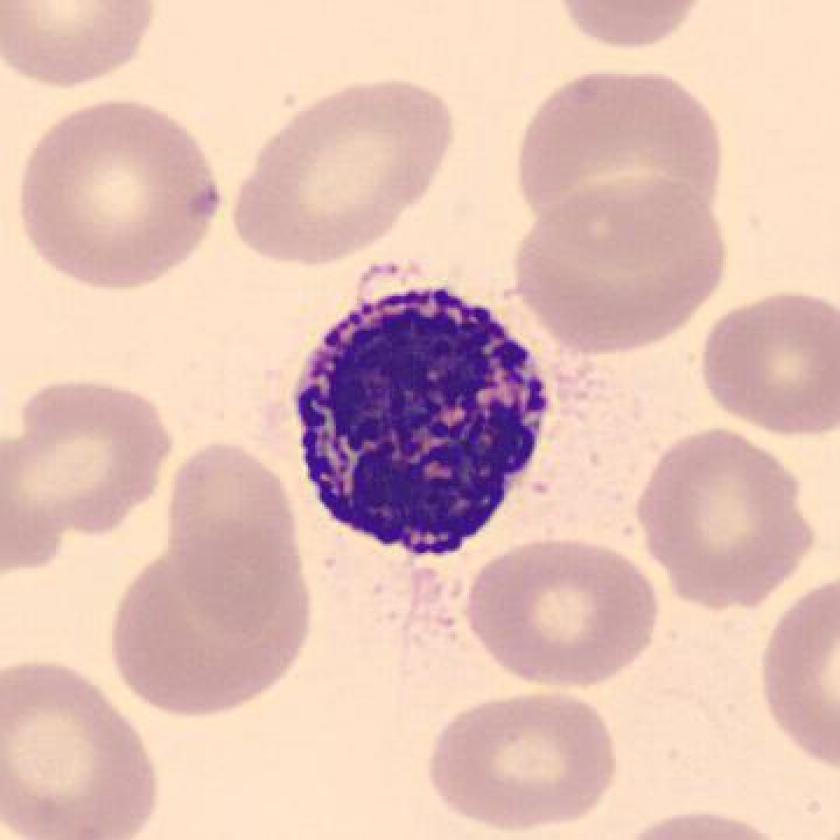basophil: (287, 278, 561, 574)
